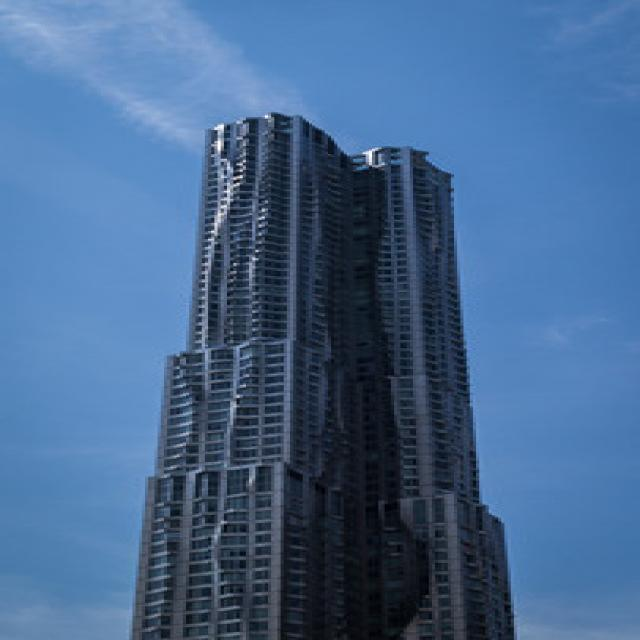Normal_building: (120, 110, 523, 636)
